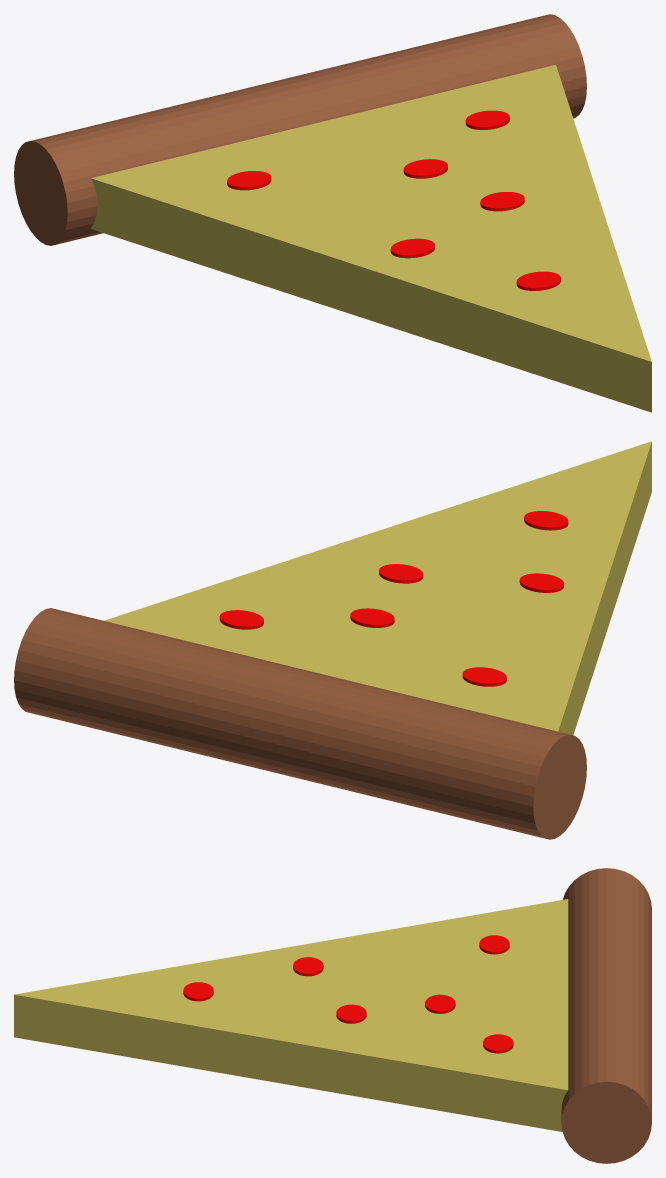
File: pizza.fbx
The picture shows the model from 3 angles, top to bottom: view 1: azimuth 30°, elevation 25°; view 2: azimuth 150°, elevation 25°; view 3: azimuth 270°, elevation 25°; orthographic projection. The views are drawn at different scales.
Parts seen in each view (by area): view 1: Cube, Cylinder, Cylinder.002, Cylinder.006, Cylinder.001, Cylinder.003, Cylinder.005, Cylinder.004; view 2: Cube, Cylinder, Cylinder.004, Cylinder.003, Cylinder.005, Cylinder.001, Cylinder.002, Cylinder.006; view 3: Cube, Cylinder, Cylinder.006, Cylinder.004, Cylinder.001, Cylinder.005, Cylinder.003, Cylinder.002.
Boxes of the visible parts, box(x1,y1,x2,y2) form: Cube: box(91, 64, 651, 412); Cylinder: box(14, 14, 586, 245); Cylinder.002: box(403, 159, 447, 178); Cylinder.006: box(465, 110, 509, 129); Cylinder.001: box(390, 238, 434, 258); Cylinder.003: box(480, 192, 524, 211); Cylinder.005: box(516, 271, 560, 290); Cylinder.004: box(227, 171, 271, 190); Cube: box(104, 441, 651, 735); Cylinder: box(14, 608, 586, 839); Cylinder.004: box(462, 667, 506, 686); Cylinder.003: box(379, 564, 423, 583); Cylinder.005: box(524, 511, 568, 530); Cylinder.001: box(519, 573, 563, 592); Cylinder.002: box(350, 608, 394, 627); Cylinder.006: box(219, 610, 263, 629); Cube: box(14, 899, 568, 1131); Cylinder: box(561, 868, 651, 1163); Cylinder.006: box(483, 1034, 513, 1053); Cylinder.004: box(479, 935, 509, 954); Cylinder.001: box(293, 957, 323, 976); Cylinder.005: box(183, 982, 213, 1001); Cylinder.003: box(336, 1004, 366, 1023); Cylinder.002: box(425, 994, 455, 1013).
Bounding box in the file's own units: 223 × 40 × 282.
